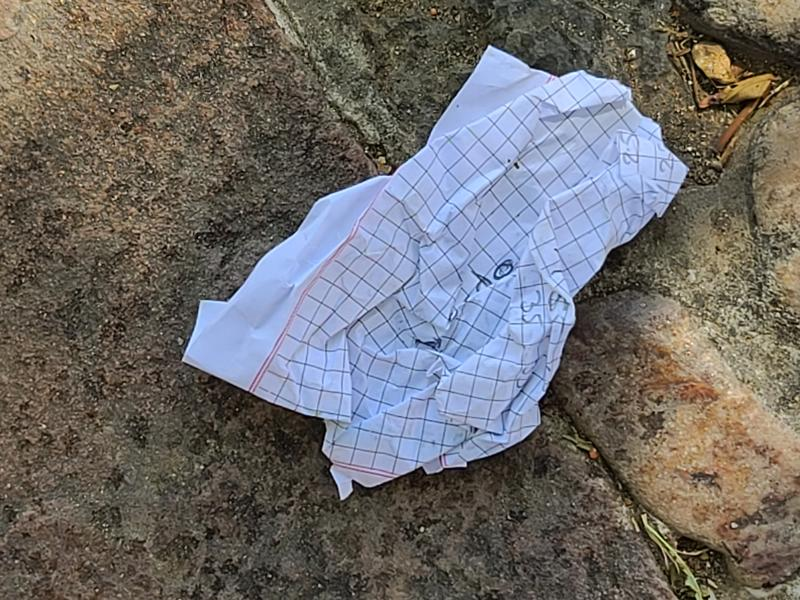papel: (182, 47, 688, 501)
